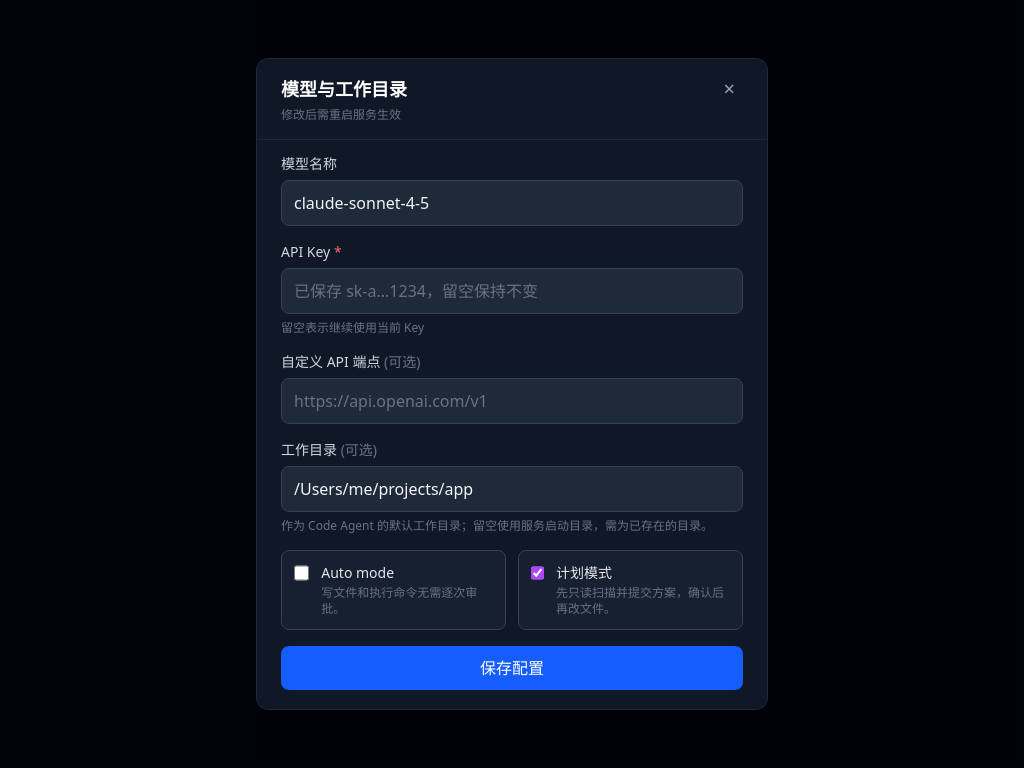
SettingsModal › 保存成功后提示重启服务
The image size is (1024, 768).
(page scrolled)
Expected: the field showing "claude-sonnet-4-5" below "模型名称" is shown, [281, 180, 743, 226]
Click the button "保存配置".
click(512, 668)  # box [281, 646, 743, 690]
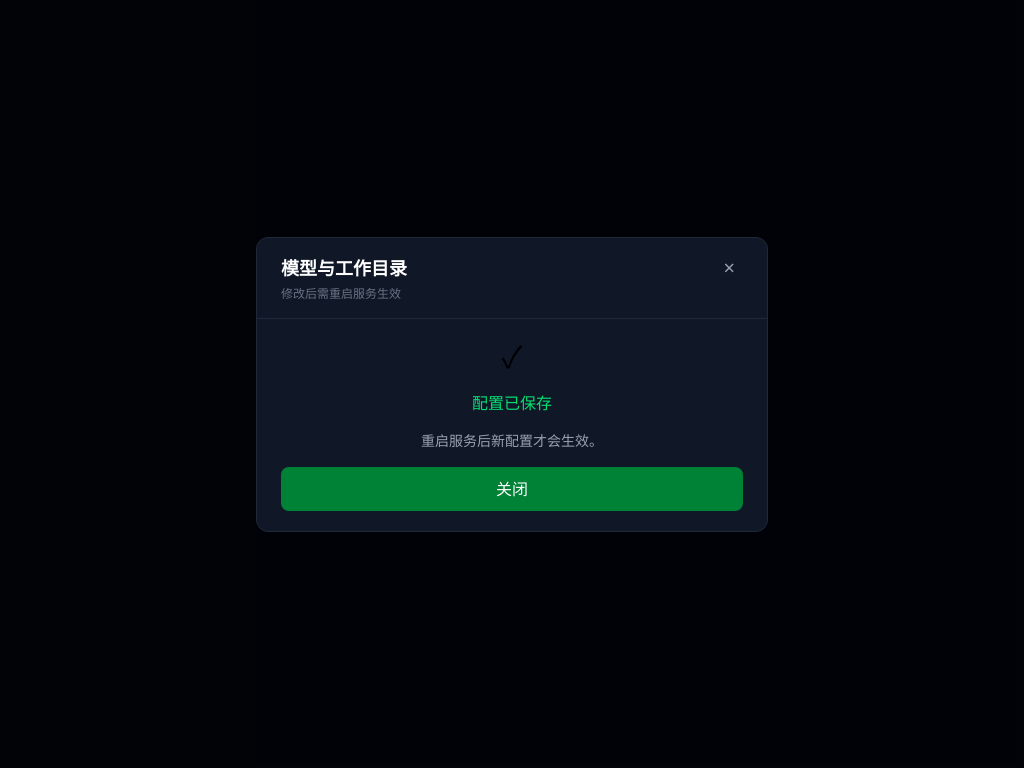
Now the text "配置已保存" is shown, box [472, 392, 552, 414]
Now the text "重启服务后新配置才会生效。" is shown, box [421, 430, 603, 450]
